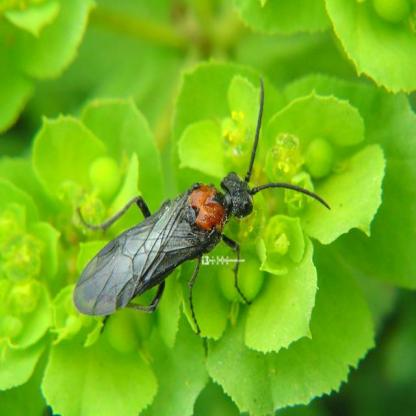sawfly: (67, 73, 334, 328)
